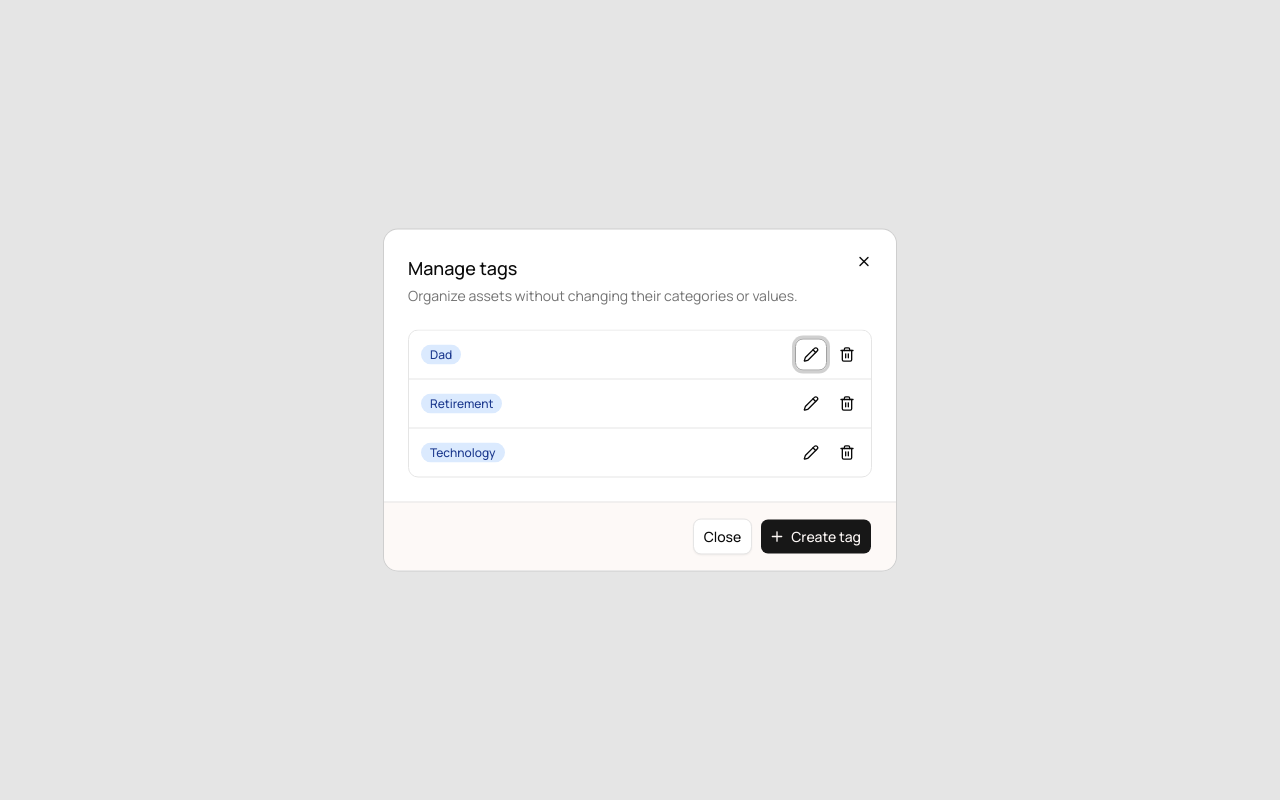
immediate tagging › confirms deletion and refreshes the shared definitions
The width and height of the screenshot is (1280, 800).
Click the button named "Delete Dad" at (847, 354), box [831, 338, 863, 370]
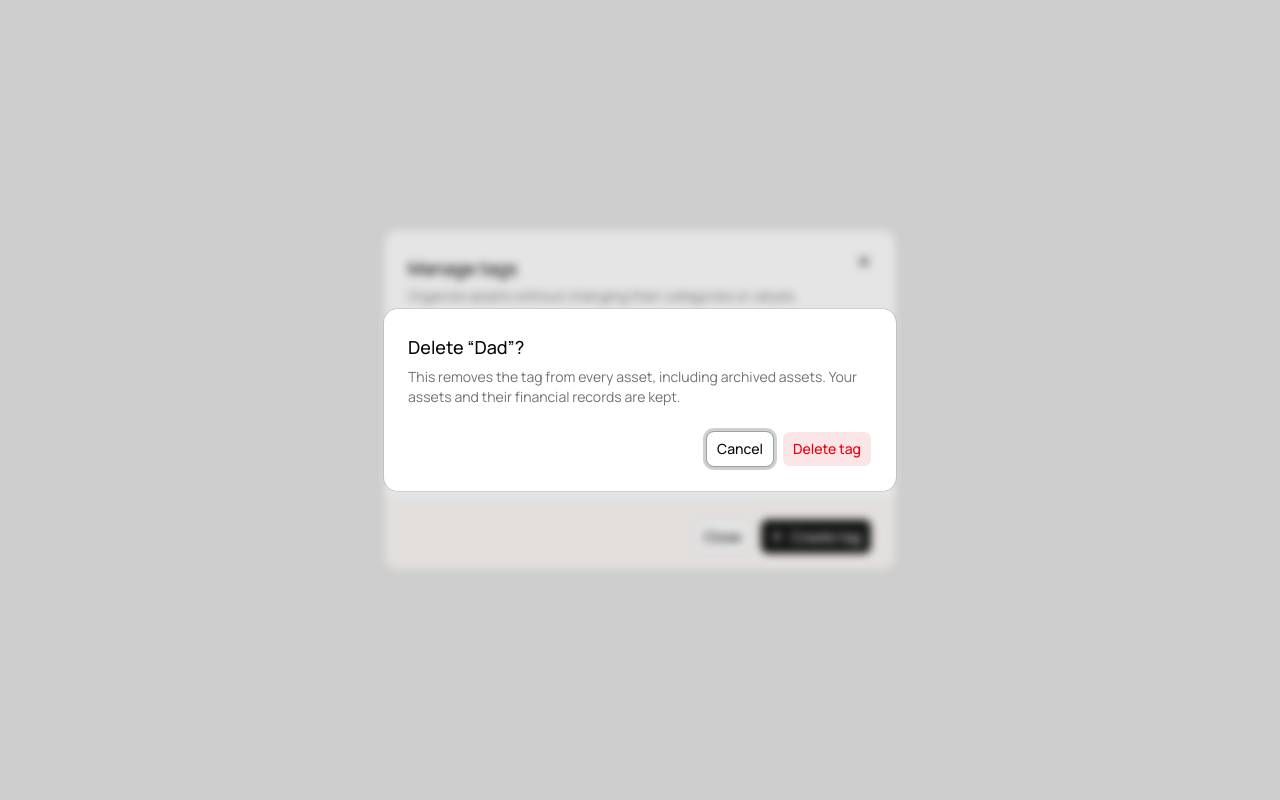
Click the button "Delete tag" at (827, 449), box [782, 431, 872, 467]
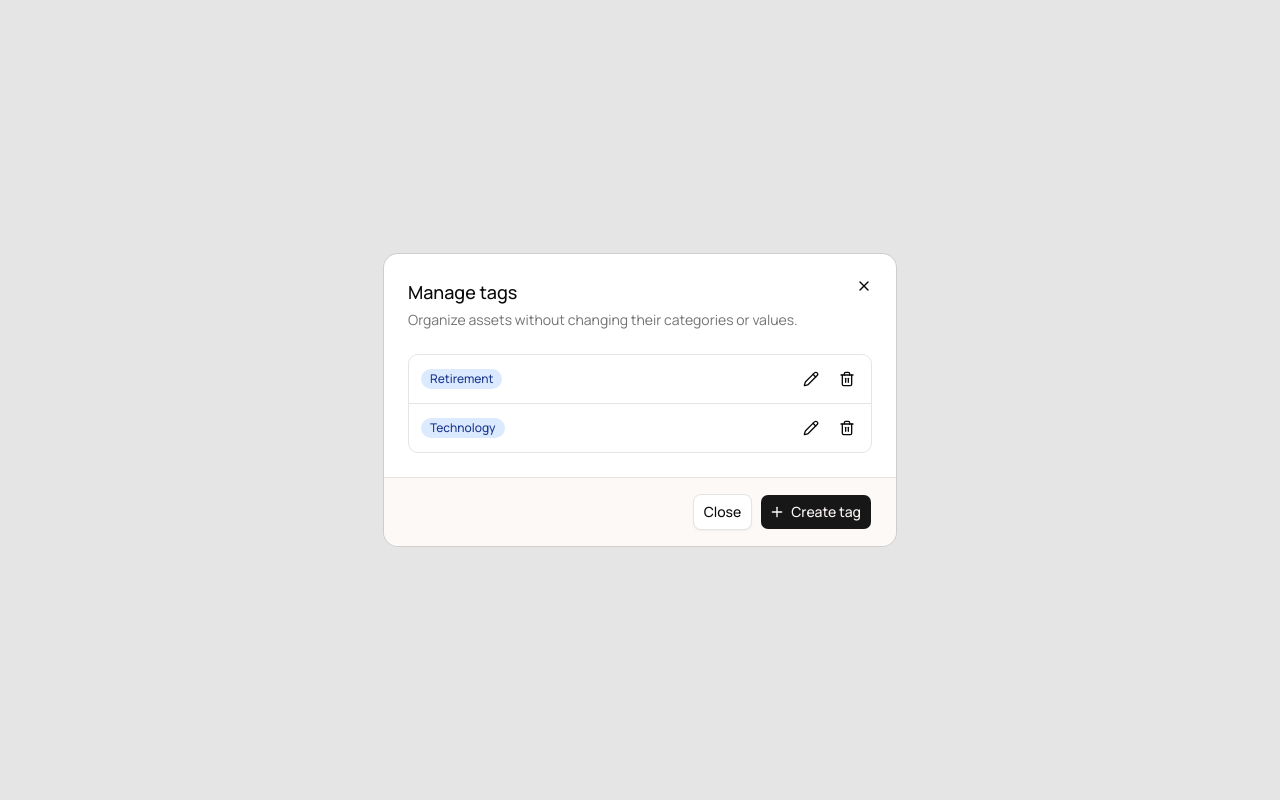
Now the icon "Delete Dad" is gone
